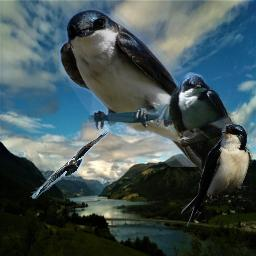Crow: (30, 124, 111, 199)
Swallow: (59, 10, 246, 167), (166, 72, 255, 179), (181, 124, 250, 227)
